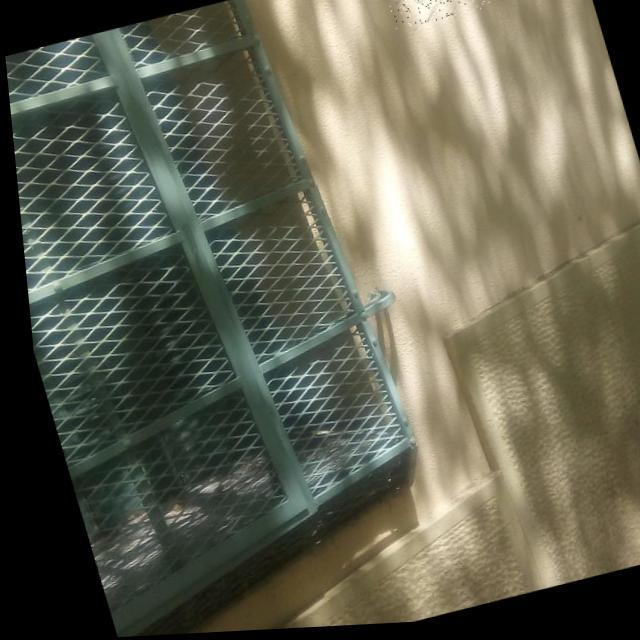-: (379, 0, 493, 35)
